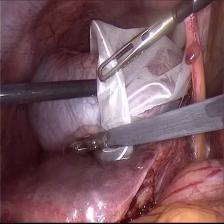Grasper: (93, 8, 177, 91), (70, 134, 111, 158)
Specimen Bag: (87, 16, 210, 161)
